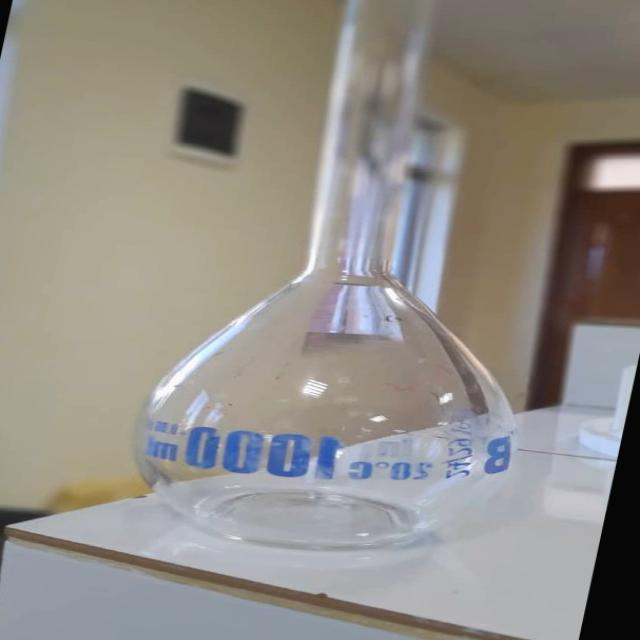Volumetric flask: (97, 0, 611, 553)
